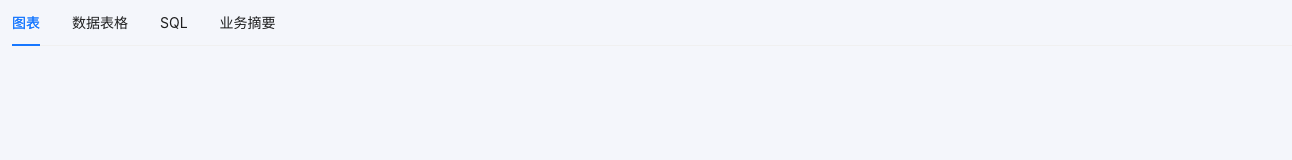
Test: ResultTabs › 业务摘要 Tab 展示摘要文本
Click the tab "业务摘要": (248, 23) [220, 12, 276, 34]
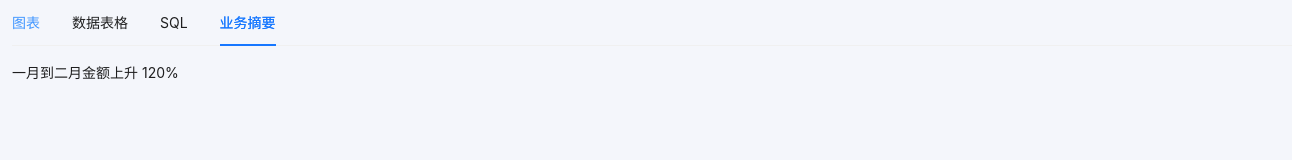
Expected: the text "一月到二月金额上升 120%" is shown, [12, 64, 179, 81]
